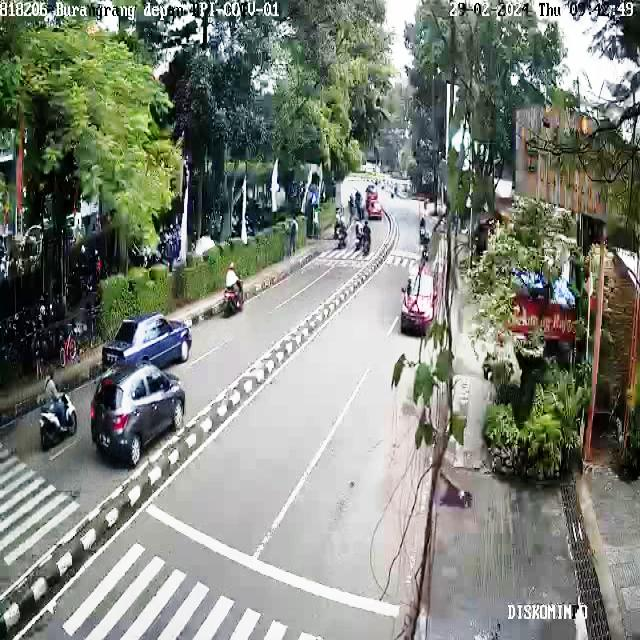Bike: (38, 377, 76, 458), (216, 258, 248, 326), (334, 213, 350, 256), (355, 218, 371, 257), (416, 207, 430, 241), (422, 228, 433, 270)
Car: (89, 358, 191, 469), (102, 301, 194, 386), (401, 261, 440, 340), (362, 177, 382, 222)
